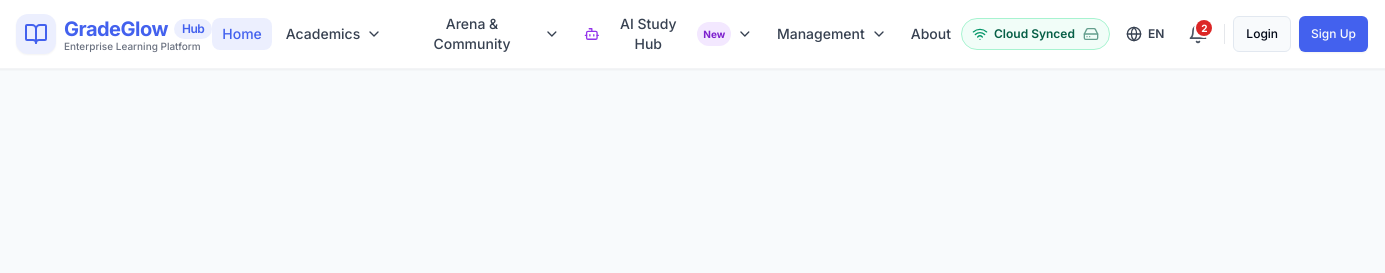
Test case: Navbar Component with Dropdown Architecture › opens Management dropdown on click and displays Instructor Studio and Admin Control
Click the button "Management": (832, 34) [767,18,897,50]
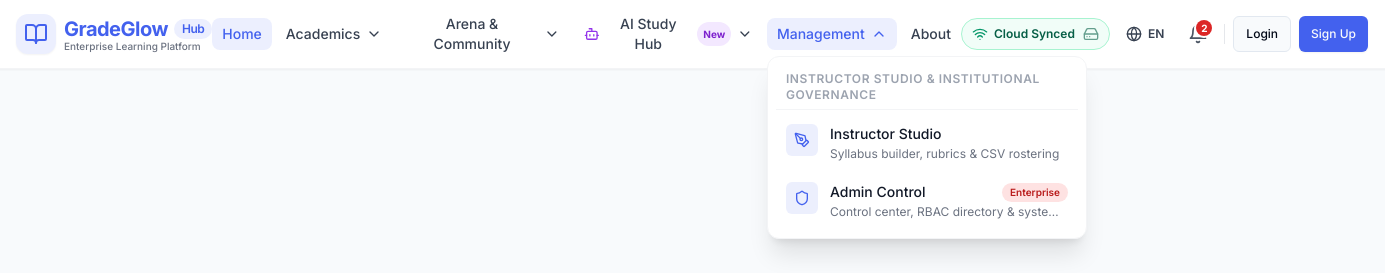
Now the text "Instructor Studio" is shown, box [830,124,942,144]
Now the text "Admin Control" is shown, box [830,182,926,202]
